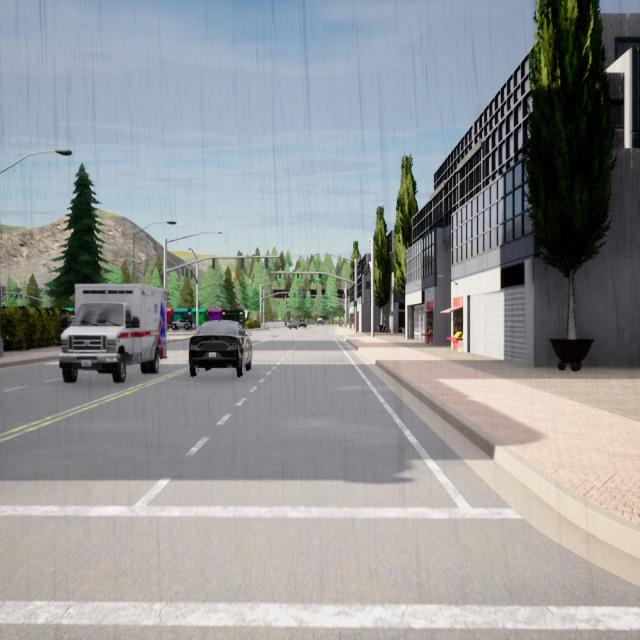Pedestrian: (382, 315, 387, 333)
Vehicle: (59, 283, 167, 382), (189, 320, 252, 377), (171, 318, 192, 330), (298, 319, 306, 328), (289, 321, 297, 329), (317, 318, 323, 326), (286, 321, 290, 328)
traffic_light: (318, 274, 322, 284), (265, 257, 268, 269), (241, 258, 244, 269), (212, 258, 215, 268), (366, 264, 368, 275), (354, 302, 357, 309), (297, 273, 299, 282), (182, 267, 184, 276), (368, 264, 370, 273), (186, 268, 188, 277), (190, 270, 192, 279), (279, 273, 281, 281), (304, 292, 306, 299), (365, 265, 366, 276), (294, 293, 296, 298)
